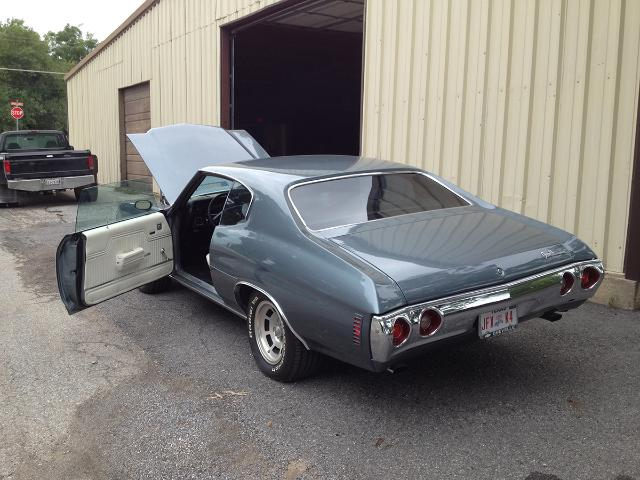chevelle-1972: (56, 124, 604, 381)
